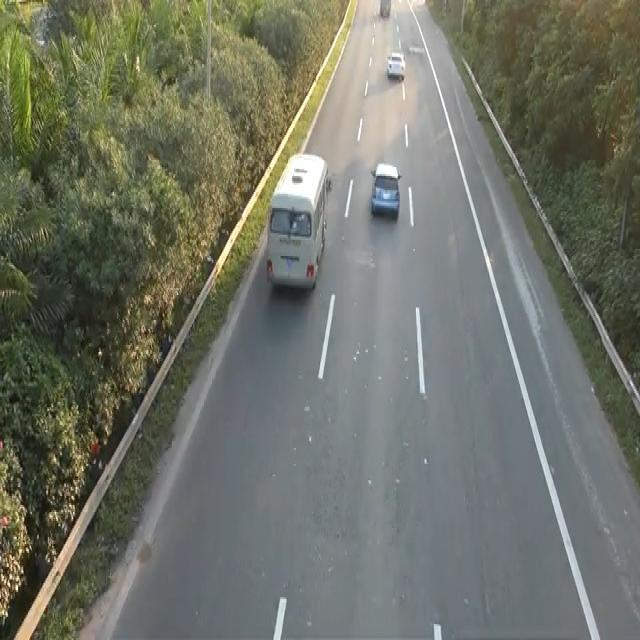bus: (369, 160, 402, 219)
jeep: (263, 148, 331, 294)
